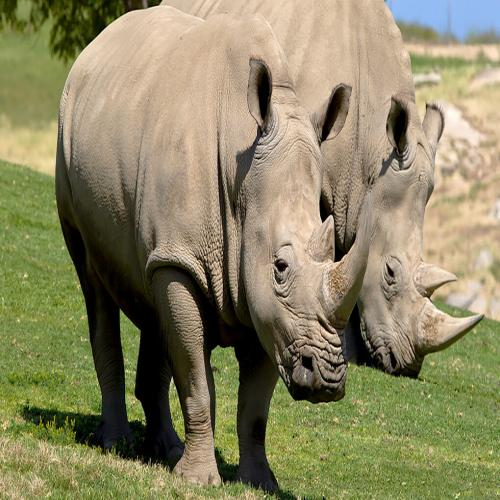rhino-endangered: (55, 4, 373, 500), (157, 0, 486, 383)
